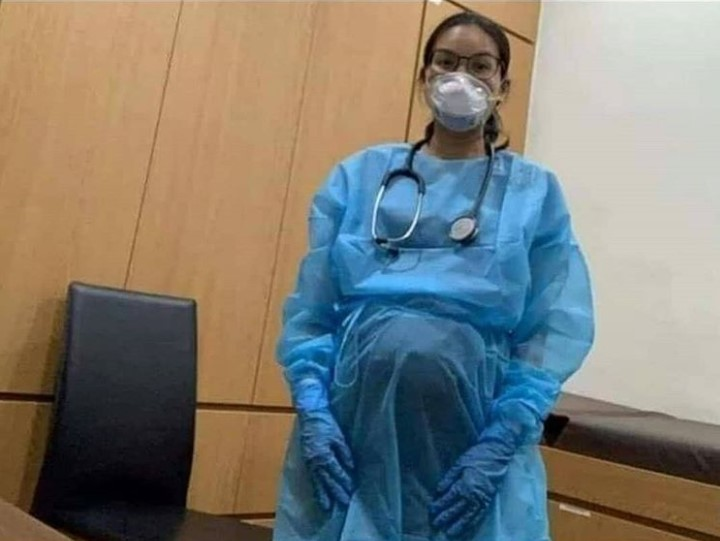face_with_mask: (417, 15, 513, 139)
